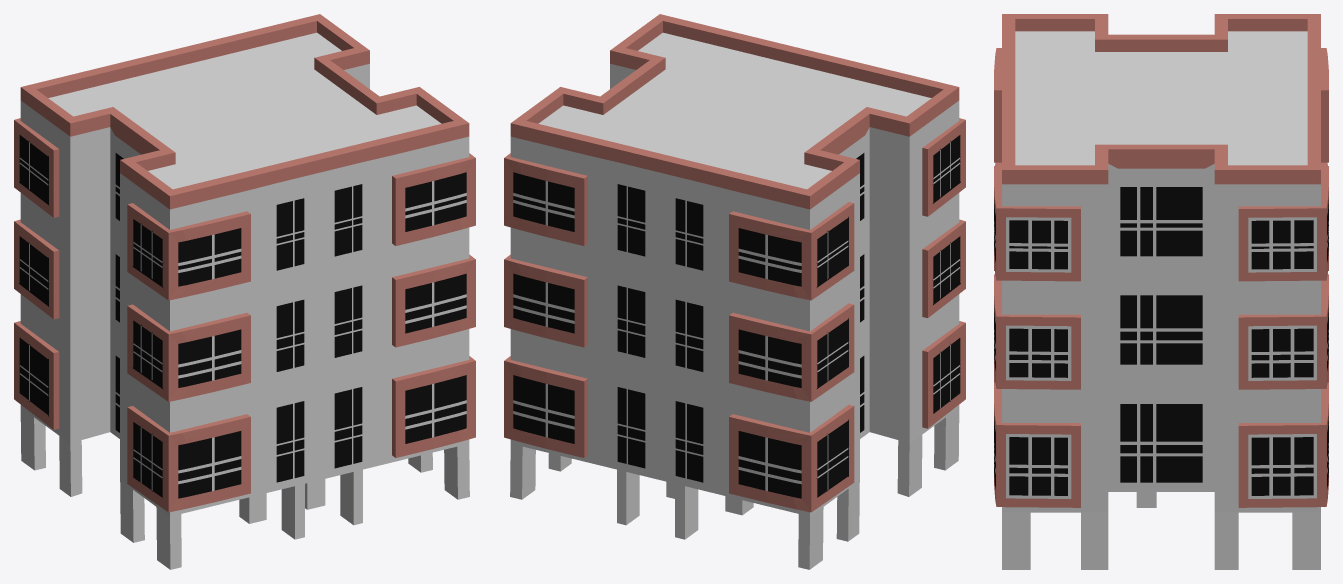
Rendered from apt-8.glb.
3 renders of one model, left to right at view 1: azimuth 30°, elevation 25°; view 2: azimuth 150°, elevation 25°; view 3: azimuth 270°, elevation 25°, orthographic. The views are drawn at different scales.
Bounding box in the file's own units: 1.59 × 1.83 × 1.39.
